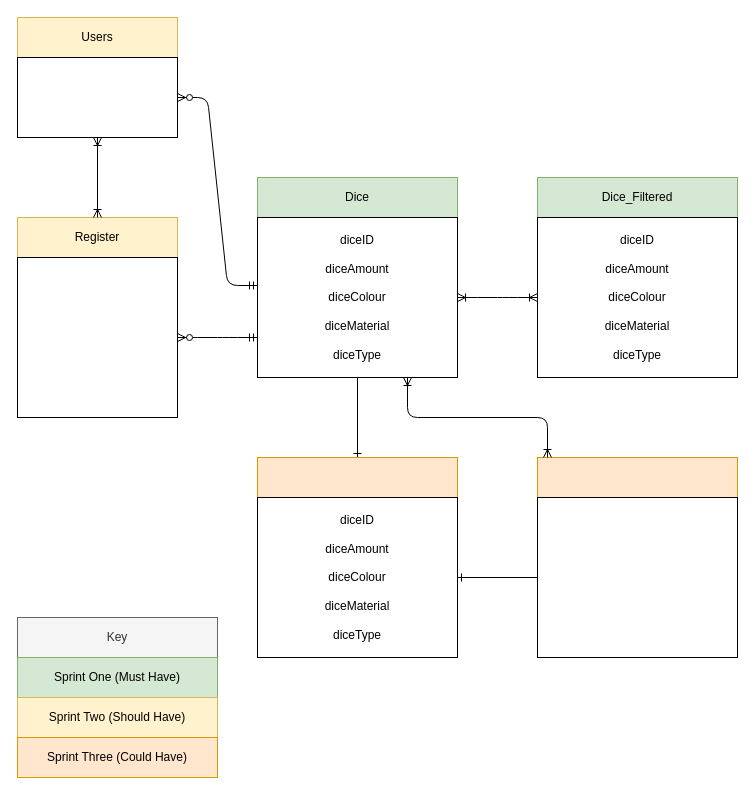
The diagram is 755 pixels wide and 795 high, and some of its shapes have lost their labels. Here are the shapes that lost their labels. From the top down, the centre of each, then its label:
[97,97]: Username Password
[97,337]: ID Username Password Email
[357,477]: Print
[637,477]: Wishlist
[637,577]: diceAmount diceColour diceMaterial diceType
